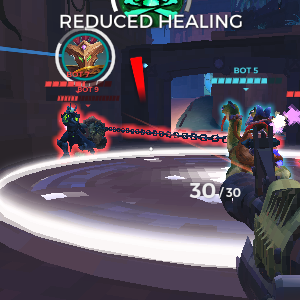model: (54, 100, 81, 159), (84, 107, 104, 154)
